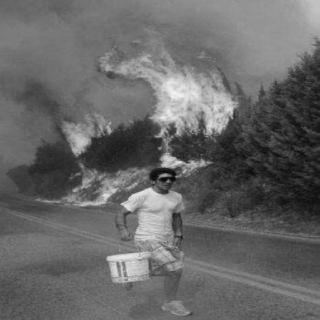Fire: (59, 28, 235, 165)
Smoke: (9, 3, 105, 93)
